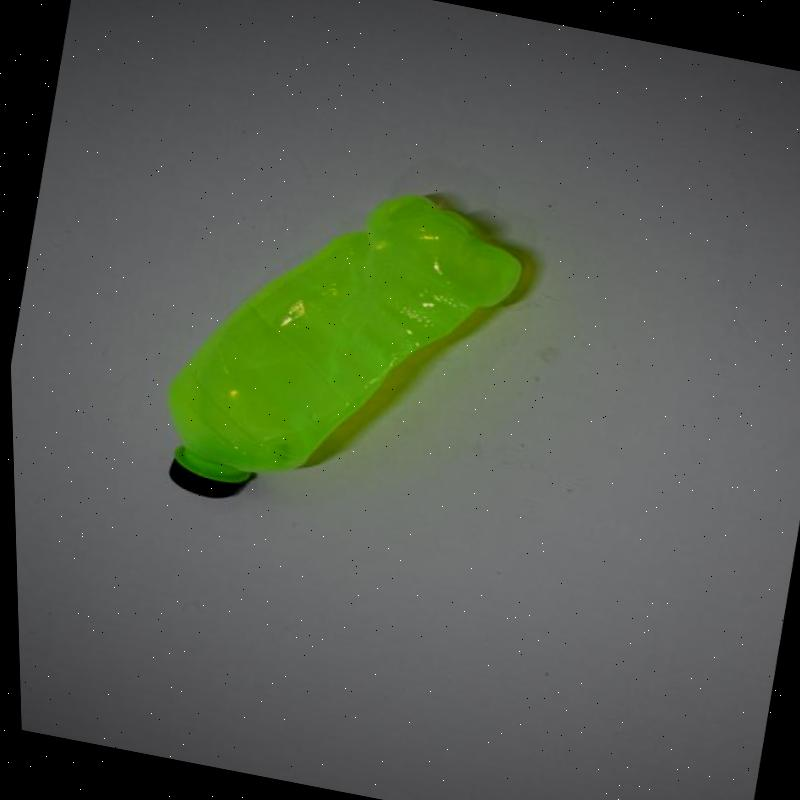botella: (146, 152, 539, 549)
